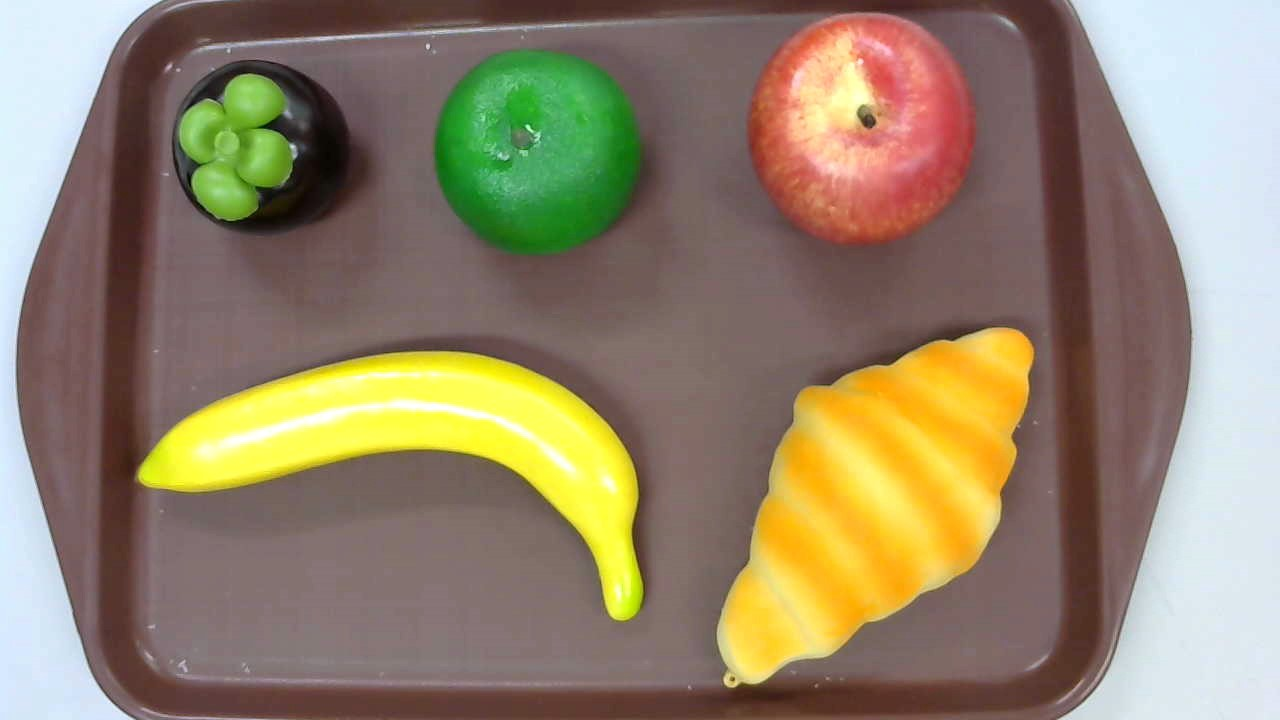banana: (135, 349, 645, 622)
croissant: (715, 327, 1034, 687)
green orange: (432, 48, 642, 257)
mangosteen: (172, 61, 350, 237)
red apple: (747, 11, 975, 247)
